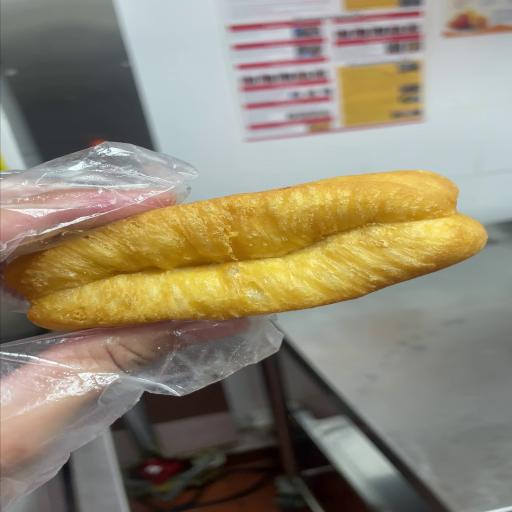brand_golden_good: (5, 170, 485, 329)
